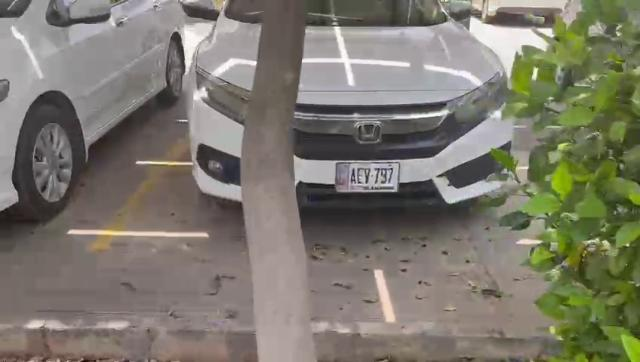plate: (330, 160, 402, 192)
